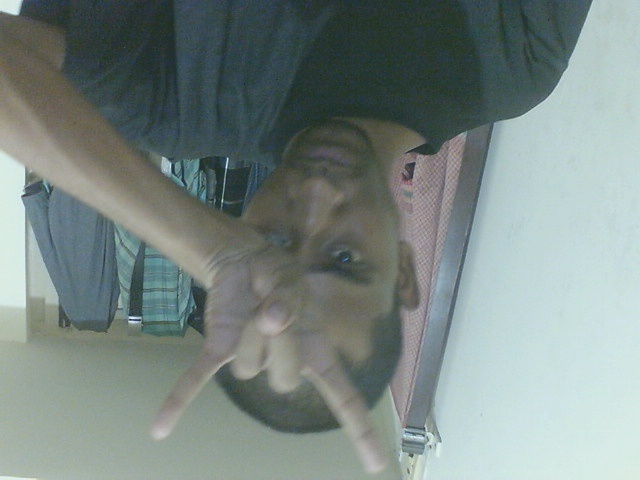hand: (152, 247, 395, 480)
